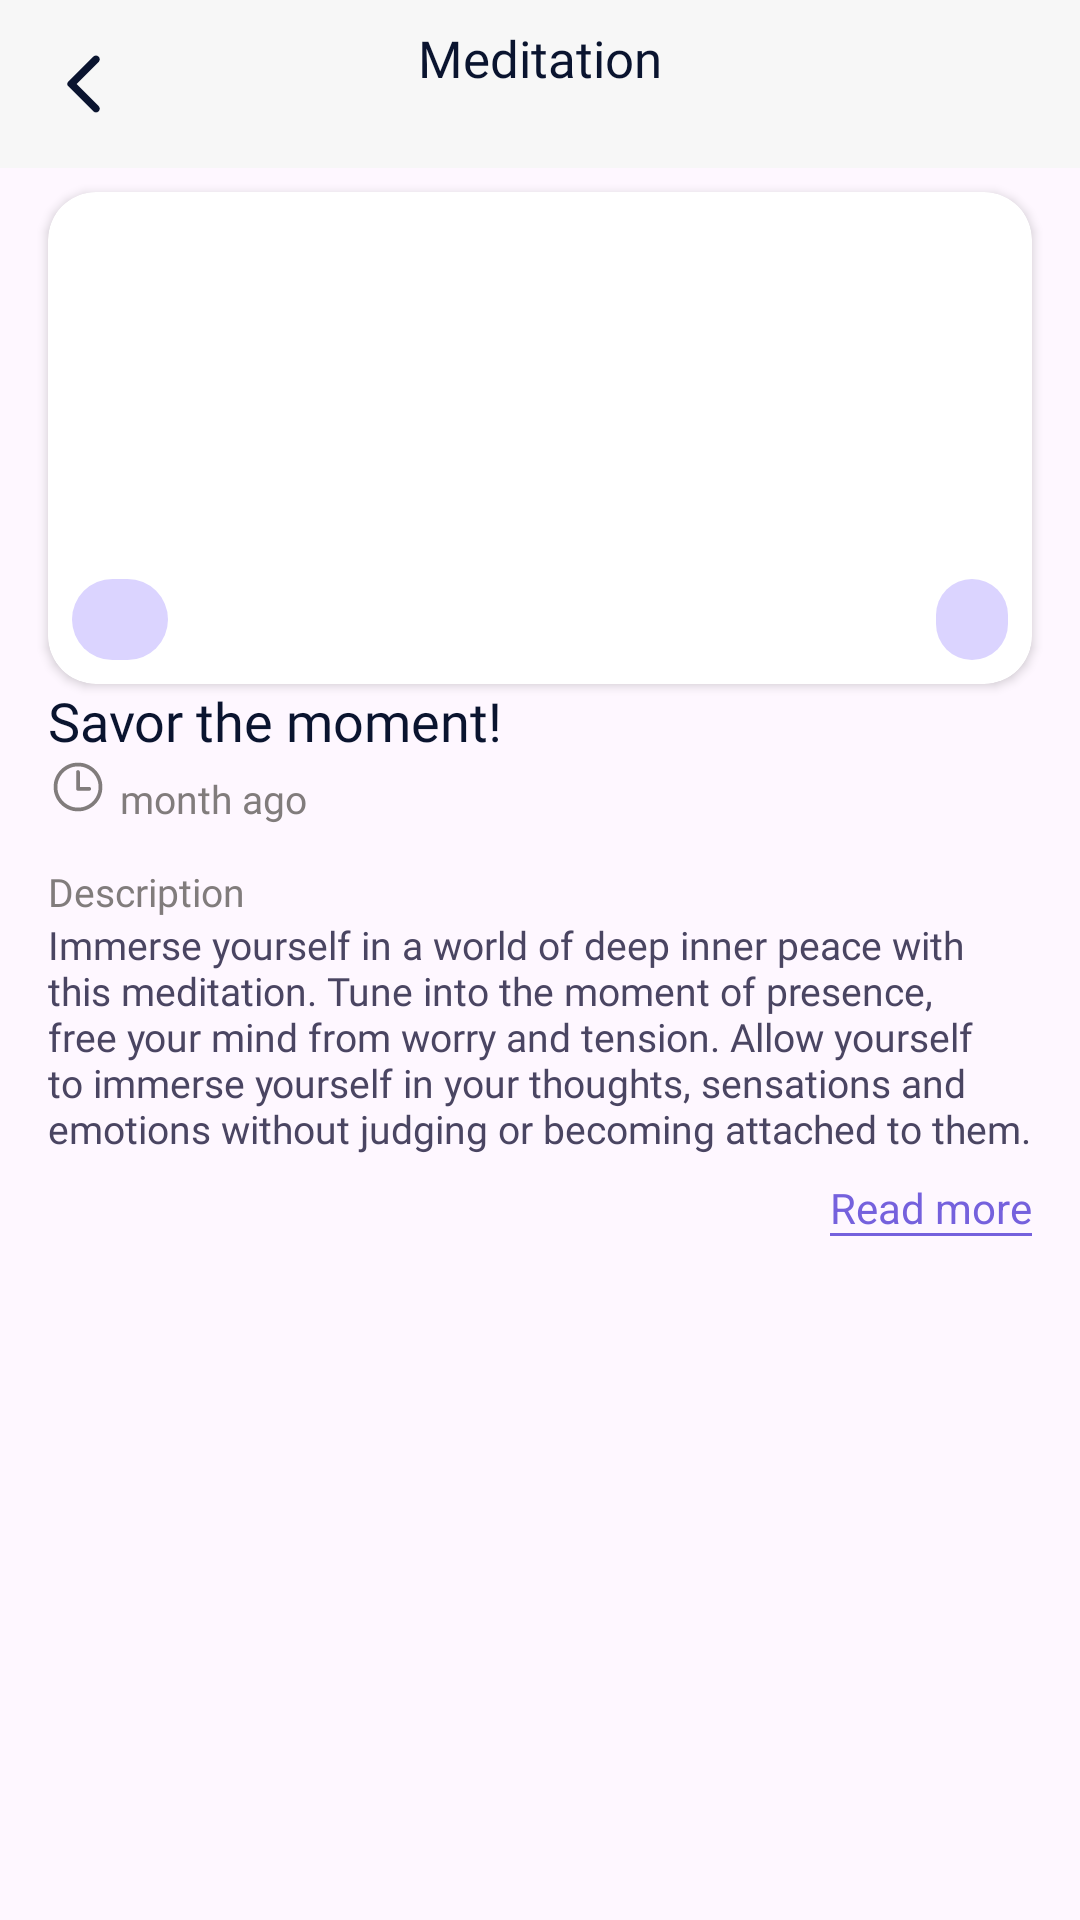

Named icons in this screenshot (1080*1920) and their centers, point (x, y):
back: point (83, 84)
time: point (78, 787)
